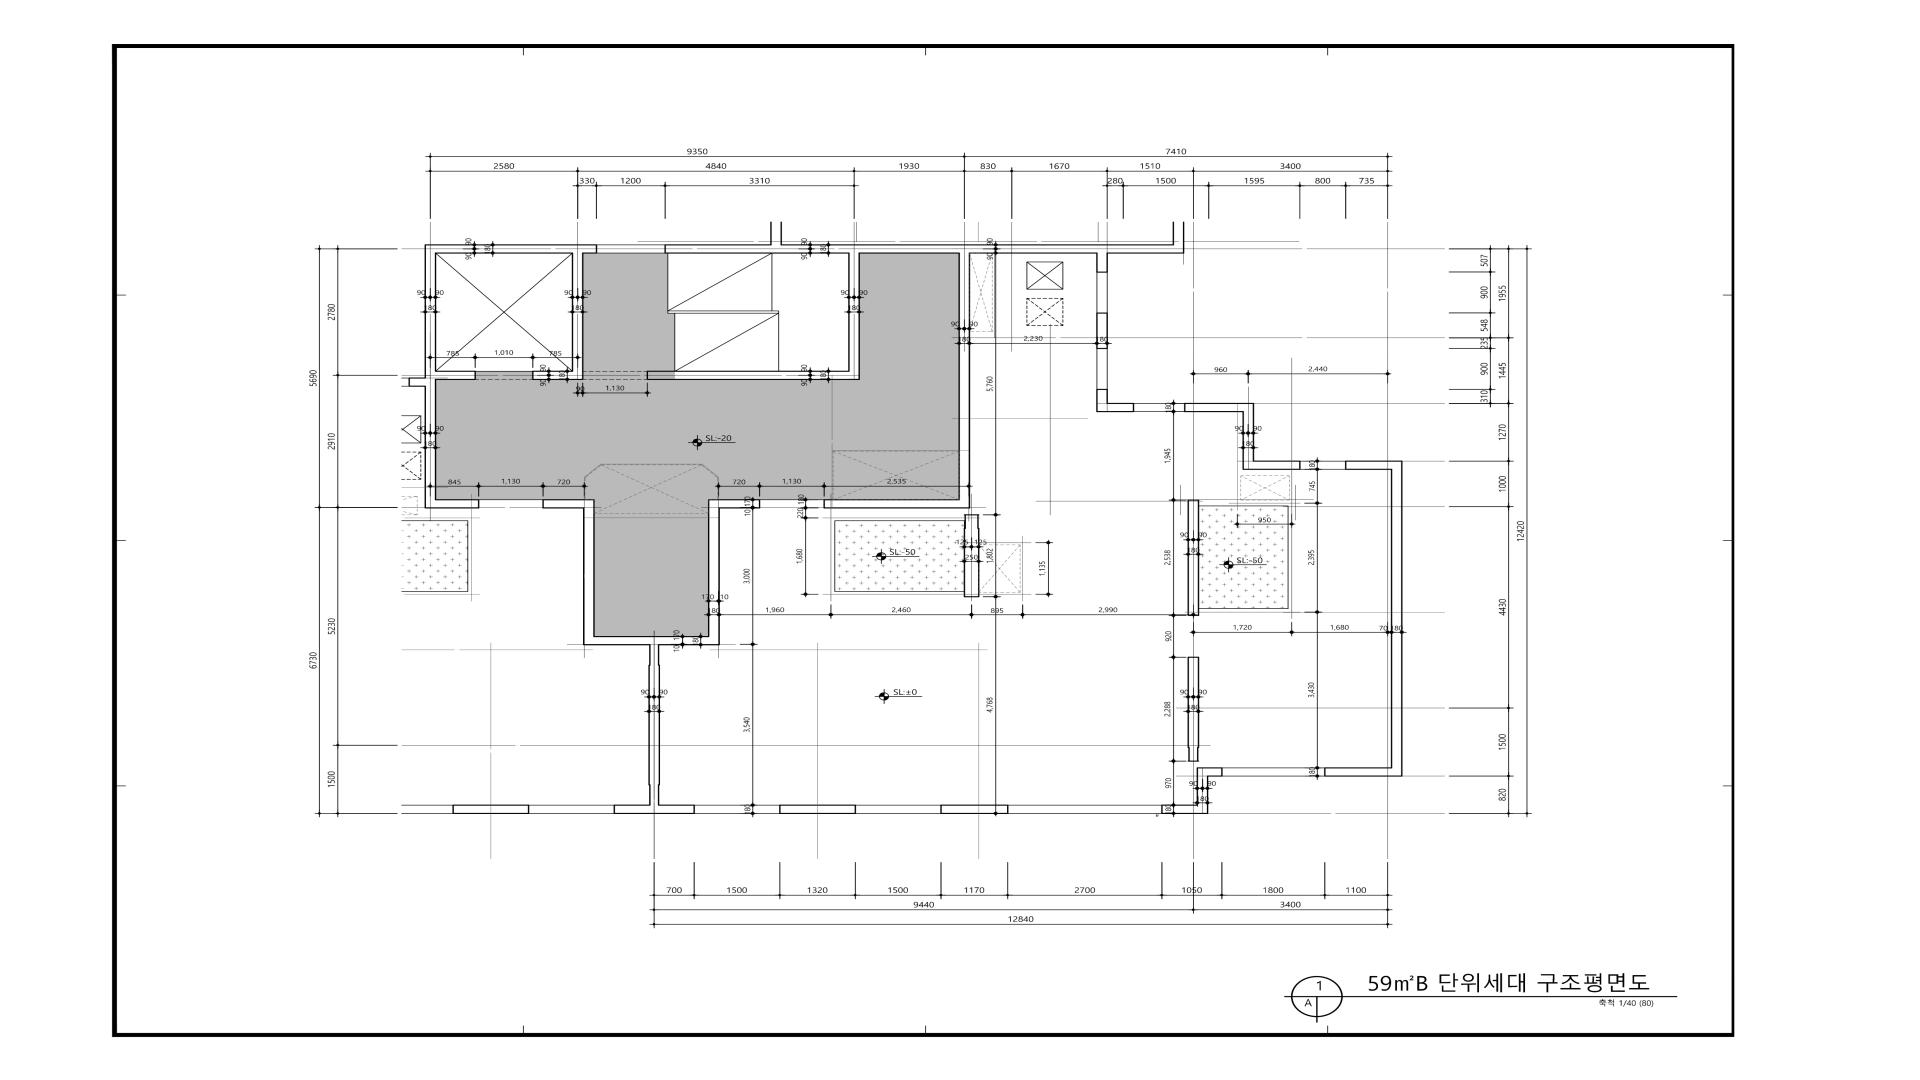wall: (1391, 469, 1403, 767), (770, 244, 1097, 253), (425, 253, 436, 500), (959, 253, 971, 500), (647, 371, 860, 380), (708, 500, 720, 636), (583, 509, 595, 637), (848, 253, 860, 371), (425, 244, 572, 253), (824, 500, 969, 509), (649, 665, 659, 786), (583, 636, 720, 645), (572, 253, 583, 371), (1188, 500, 1199, 616), (964, 527, 980, 597), (665, 244, 770, 253), (1188, 657, 1199, 748), (1097, 244, 1184, 253), (1324, 767, 1403, 777), (452, 804, 529, 814), (779, 804, 856, 814), (1242, 413, 1254, 469), (1184, 404, 1254, 413), (940, 804, 1009, 814), (1345, 460, 1403, 469), (425, 500, 479, 509), (542, 500, 595, 509), (531, 371, 583, 380), (1096, 313, 1108, 349), (1162, 804, 1208, 814), (1254, 460, 1300, 469), (1197, 767, 1208, 804), (436, 371, 476, 380), (720, 500, 760, 509), (659, 804, 695, 814), (613, 804, 649, 814), (649, 786, 659, 814), (1096, 389, 1108, 413), (1108, 402, 1134, 413), (1172, 222, 1184, 244), (770, 222, 782, 244), (1096, 253, 1108, 273), (649, 645, 659, 665), (964, 514, 978, 527), (1188, 748, 1199, 762), (409, 377, 425, 386), (583, 244, 597, 253), (1208, 767, 1222, 777), (571, 244, 583, 253)
